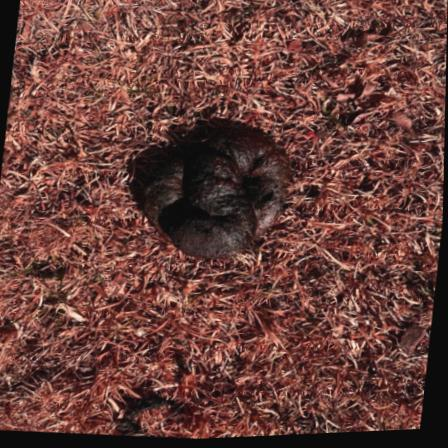dog-poop: (131, 111, 304, 271)
